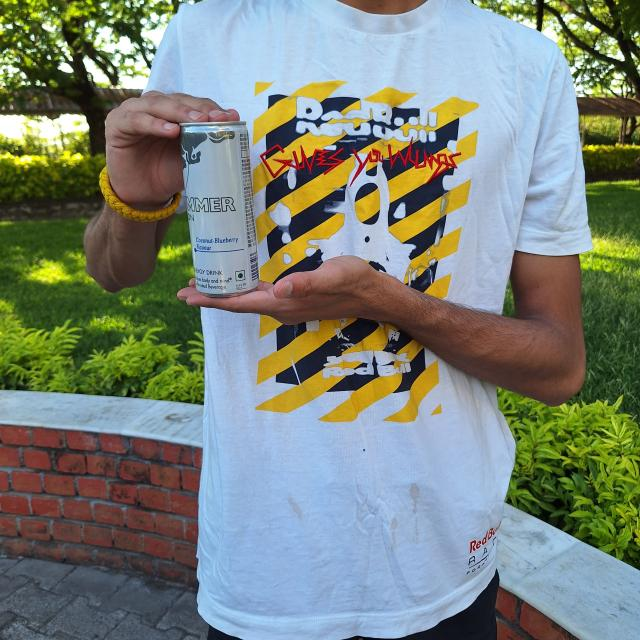Redbull Summer Edition: (175, 123, 262, 294)
